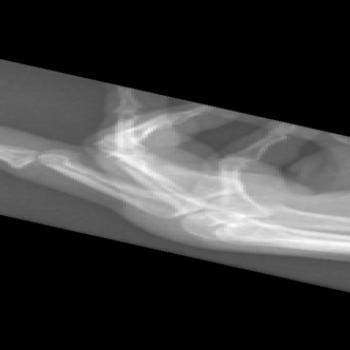Fracture: (1, 146, 66, 174)
